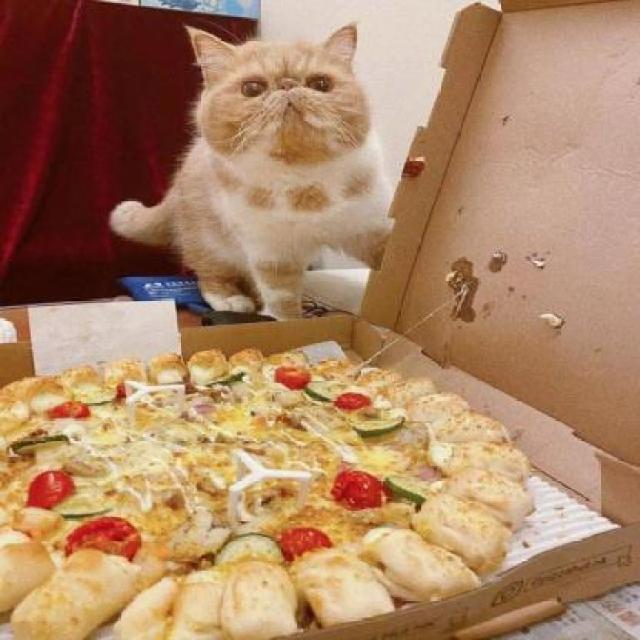cat: (90, 1, 408, 324)
